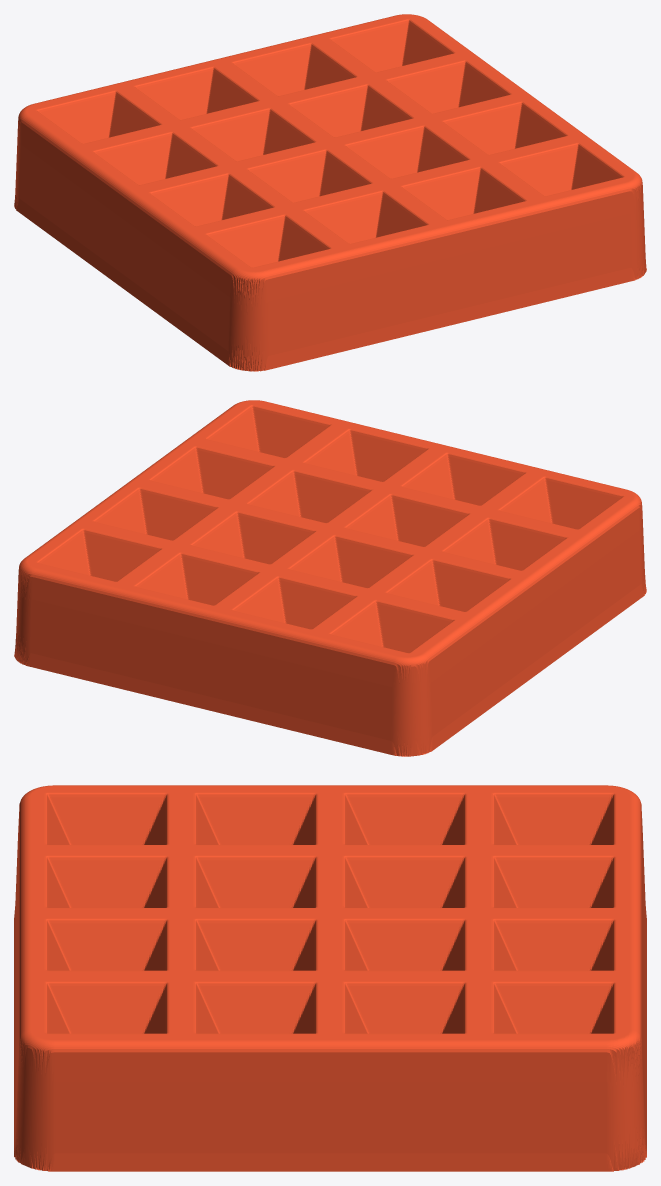
File: mold.glb
3 renders of one model, top to bottom at view 1: azimuth 30°, elevation 25°; view 2: azimuth 150°, elevation 25°; view 3: azimuth 270°, elevation 25°, orthographic. The views are drawn at different scales.
Parts seen in each view (by area): view 1: geometry_0; view 2: geometry_0; view 3: geometry_0.
Part boxes in pixels (x1=…): geometry_0: x1=14, y1=14, x2=646, y2=371; geometry_0: x1=14, y1=400, x2=646, y2=756; geometry_0: x1=14, y1=785, x2=646, y2=1171.
Size of the model in its own units: 0.1413 by 0.0306 by 0.1413.
